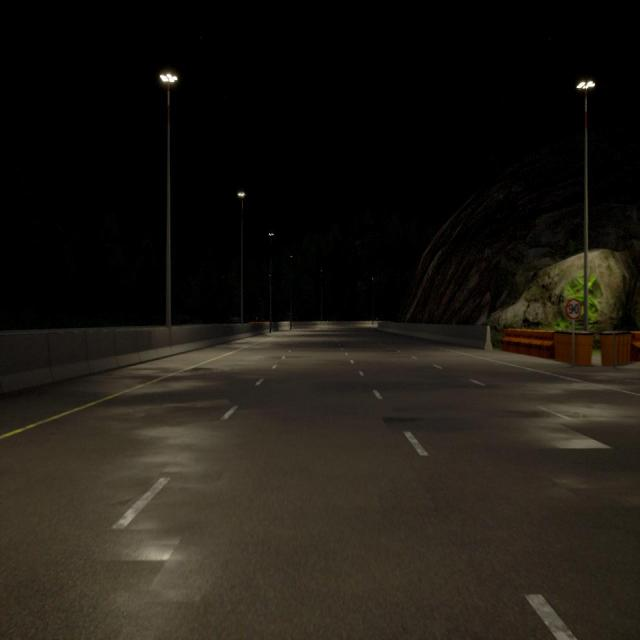Traffic_Signs: (566, 299, 581, 319)
